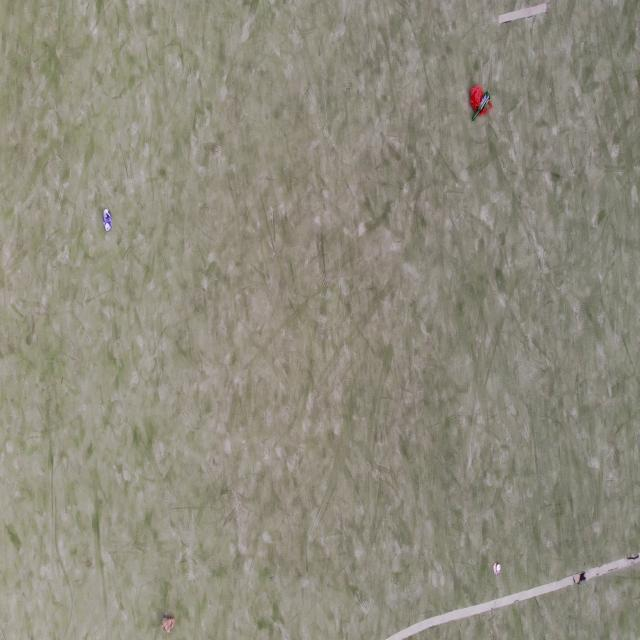rubbish: (470, 85, 492, 121), (161, 615, 176, 633), (103, 208, 112, 233), (493, 562, 501, 573)
